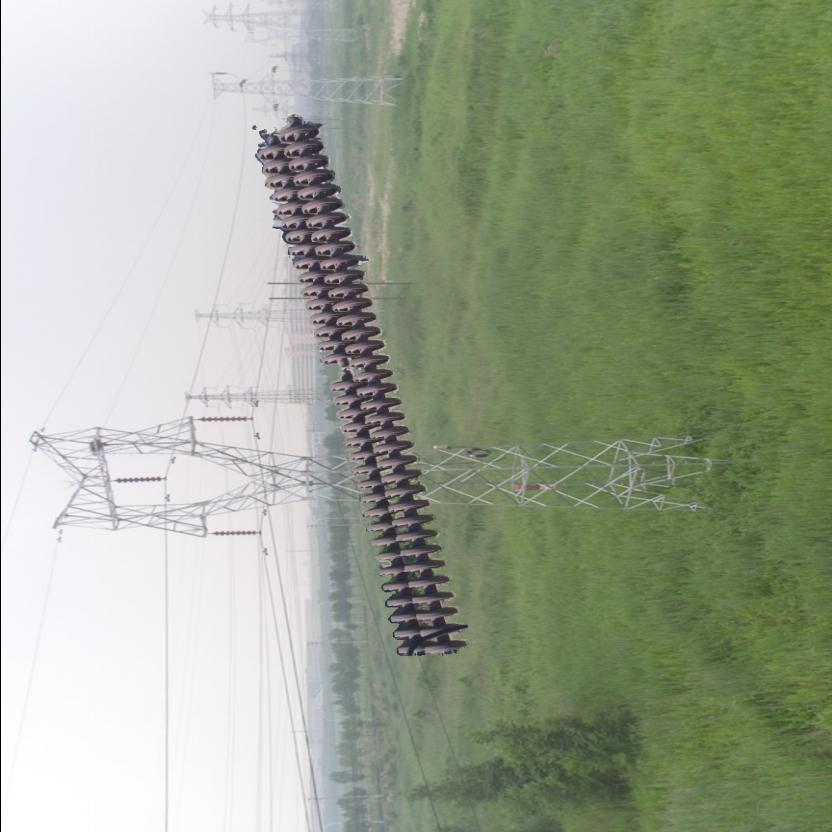defect: (318, 350, 354, 398)
